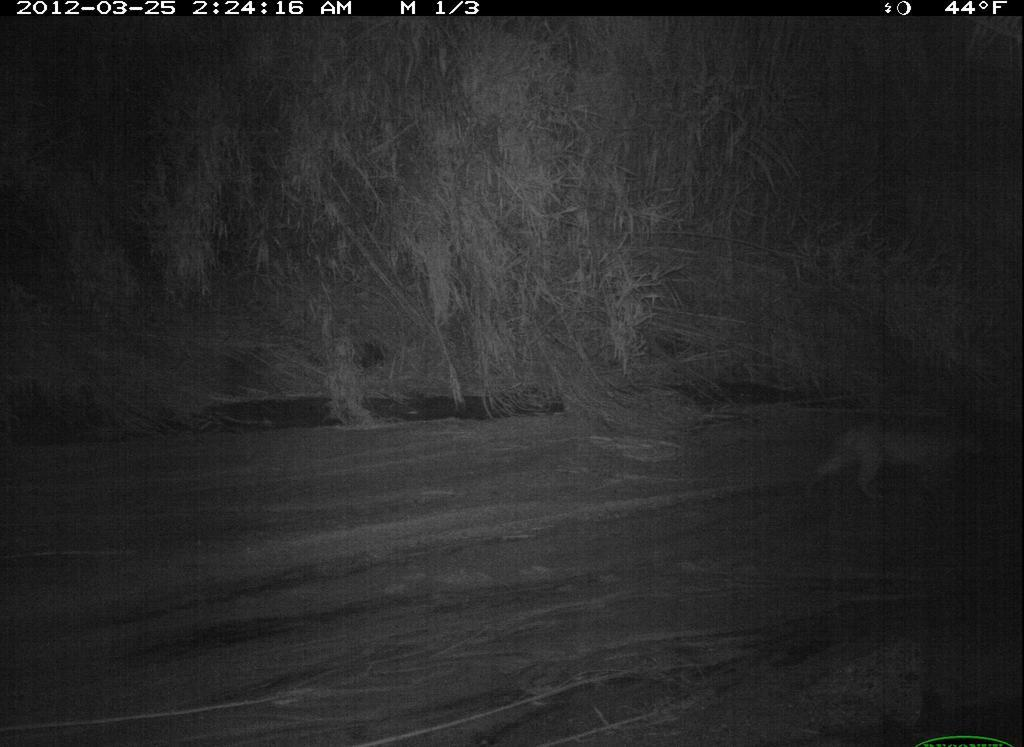bobcat: (795, 386, 991, 516)
